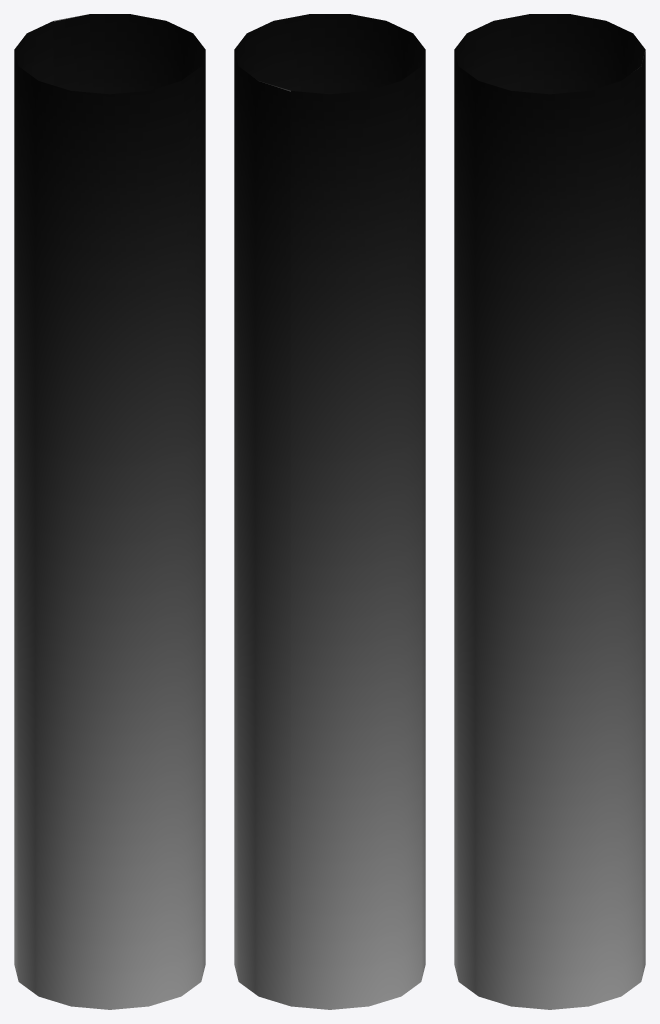
The model's file is jineng2.FBX.
The picture shows the model from 3 angles, left to right: view 1: azimuth 30°, elevation 25°; view 2: azimuth 150°, elevation 25°; view 3: azimuth 270°, elevation 25°; orthographic projection.
Visible parts, largest first — view 1: Cylinder01; view 2: Cylinder01; view 3: Cylinder01.
Part boxes in pixels (x1,y1,x2,y2): Cylinder01: (14,14,205,1009); Cylinder01: (234,14,425,1009); Cylinder01: (454,14,645,1009).
Size of the model in its own units: 37.8 by 201 by 38.01.
